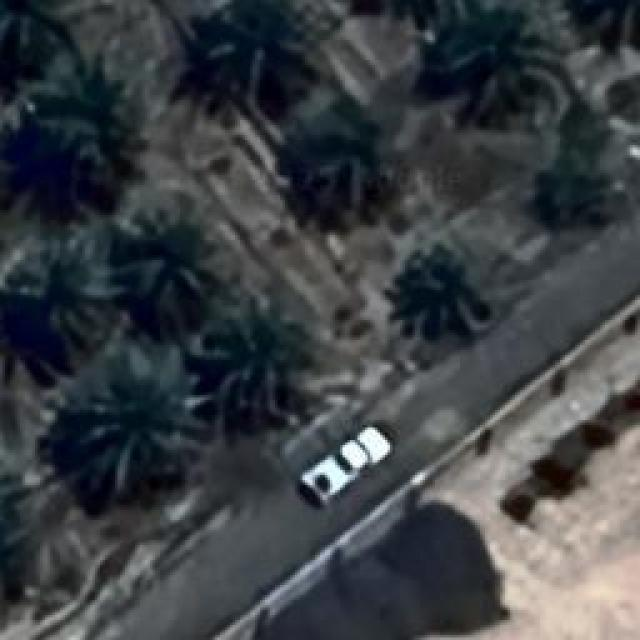PalmTree: (0, 88, 142, 203), (281, 114, 424, 228), (200, 9, 340, 112), (62, 378, 190, 490), (112, 220, 232, 322), (0, 238, 105, 354), (442, 14, 548, 118), (208, 318, 312, 422), (396, 246, 489, 334), (554, 128, 632, 226), (0, 0, 59, 100), (0, 472, 35, 608), (561, 0, 640, 50)
